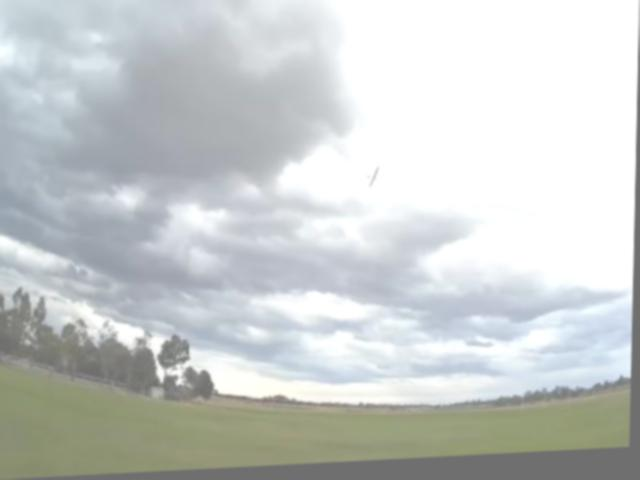uav: (361, 162, 384, 196)
